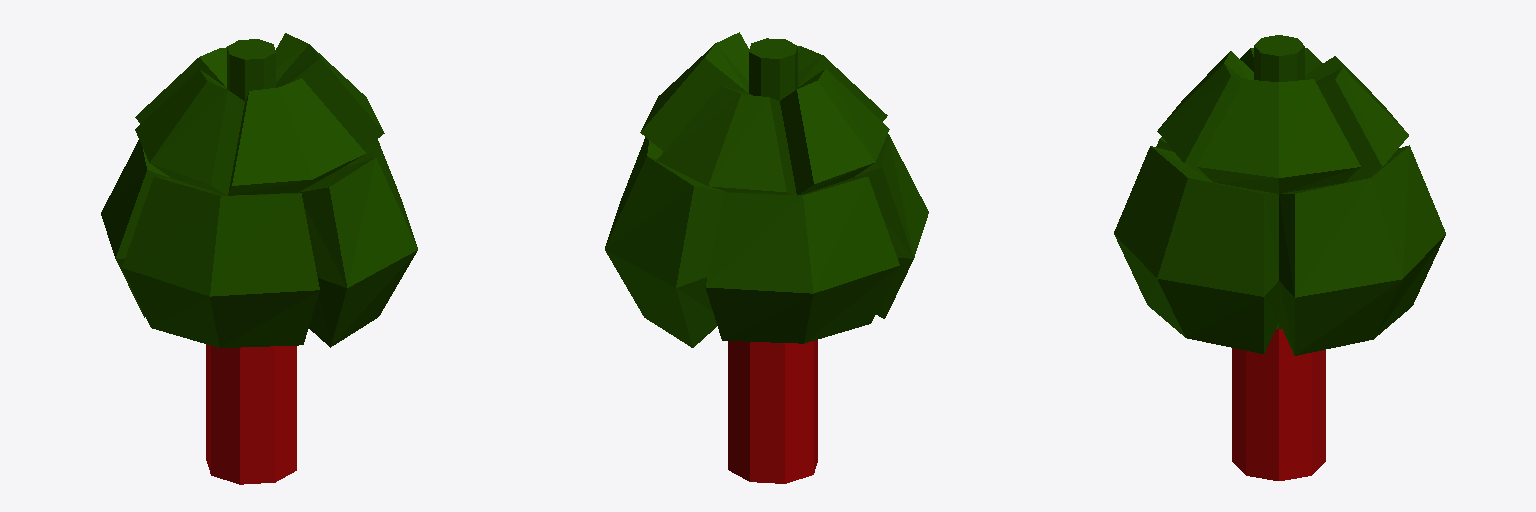
Rendered from Tree.obj.
3 views of the same model, side by side, from view 1: azimuth 30°, elevation 25°; view 2: azimuth 150°, elevation 25°; view 3: azimuth 270°, elevation 25° (orthographic).
Parts seen in each view (by area): view 1: pCylinder1; view 2: pCylinder1; view 3: pCylinder1.
Boxes of the visible parts, x1,y1,x2,y2 form: pCylinder1: [101, 33, 417, 484]; pCylinder1: [605, 32, 928, 483]; pCylinder1: [1114, 35, 1445, 480].
Size of the model in its own units: 11.64 by 16.53 by 11.97.